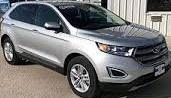SUV: (2, 4, 171, 98), (2, 4, 170, 98)
